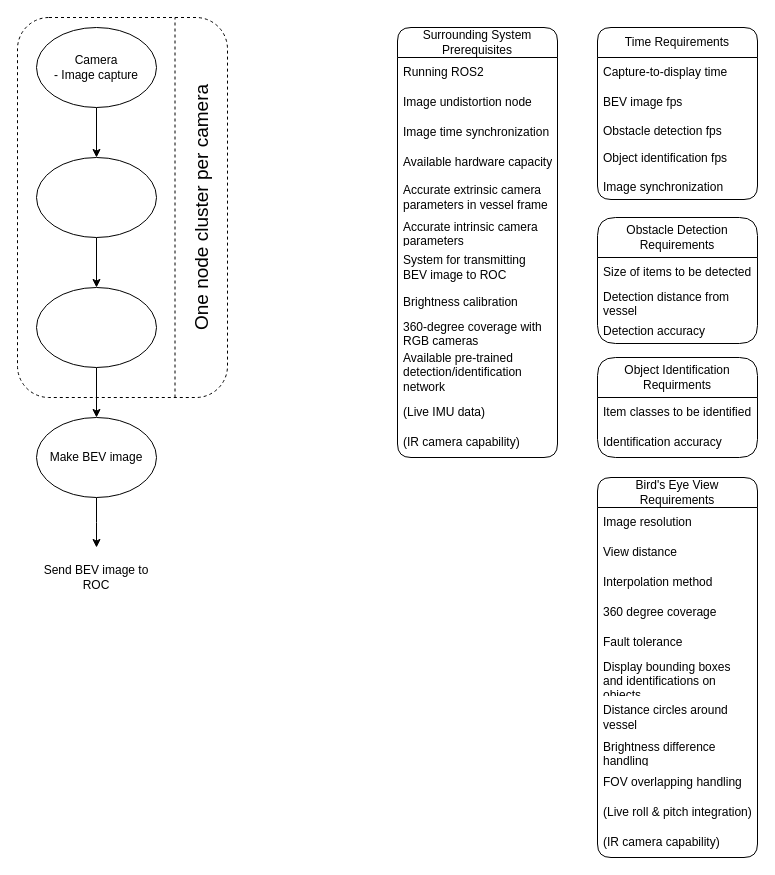
This 775x875 diagram has some shape labels left out. The centre of each missing label's shape, as x and y in pixels:
"Obstacle detection & Object identification" belongs at [96,327].
"Undistort image - OpenCV" belongs at [96,197].
